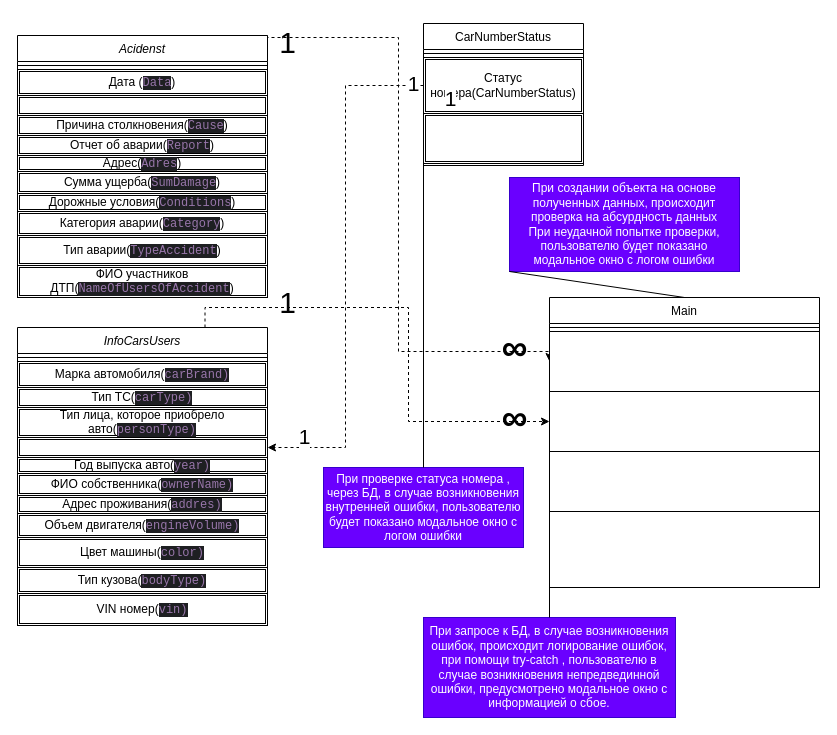
Some shapes in this 837 by 735 pixel diagram are drawn without their labels. Each missing label, with the centre of its shape:
"Все номера( AllNumbers)" goes at (x=503, y=138).
"Гос номер( licensePlate)" goes at (x=142, y=447).
"Иницилизация встроенных объектов JavaFX, для отображения интерфейса программы" goes at (x=684, y=549).
"Иницилизация переменных таблиц" goes at (x=684, y=481).
"Иницилизированные переменные класса Acidenst для работы со столбцами" goes at (x=684, y=361).
"Иницилизированные переменные класса InfoCarsUsers для работы со столбцами" goes at (x=684, y=421).
"Модели авто( ModelsAuto )" goes at (x=142, y=105).
